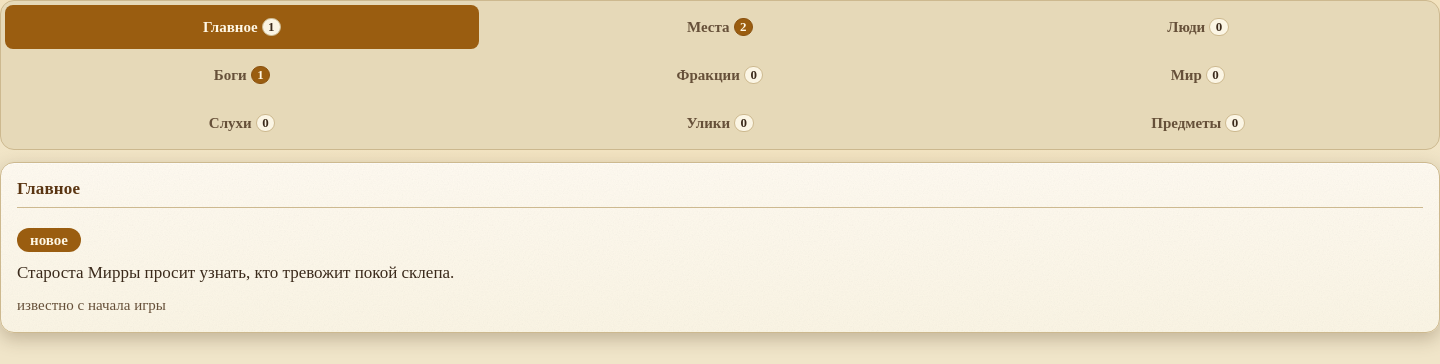
разделы дневника › открытый раздел связан со своей вкладкой
This screenshot has width=1440, height=364.
Click the tab "Боги 1" at (242, 75), box [5,53,479,97]
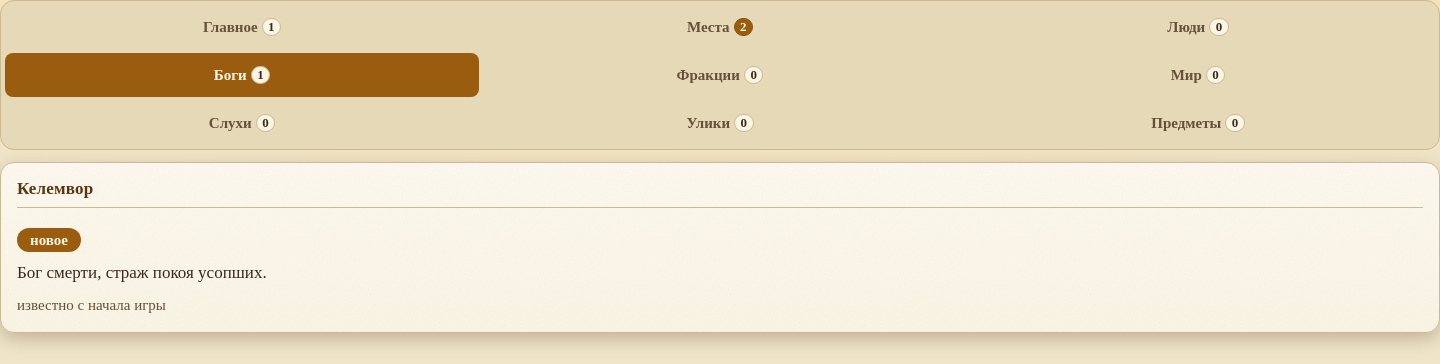
Result: the text "Бог смерти, страж покоя усопших." is shown at [17,263,267,282]
